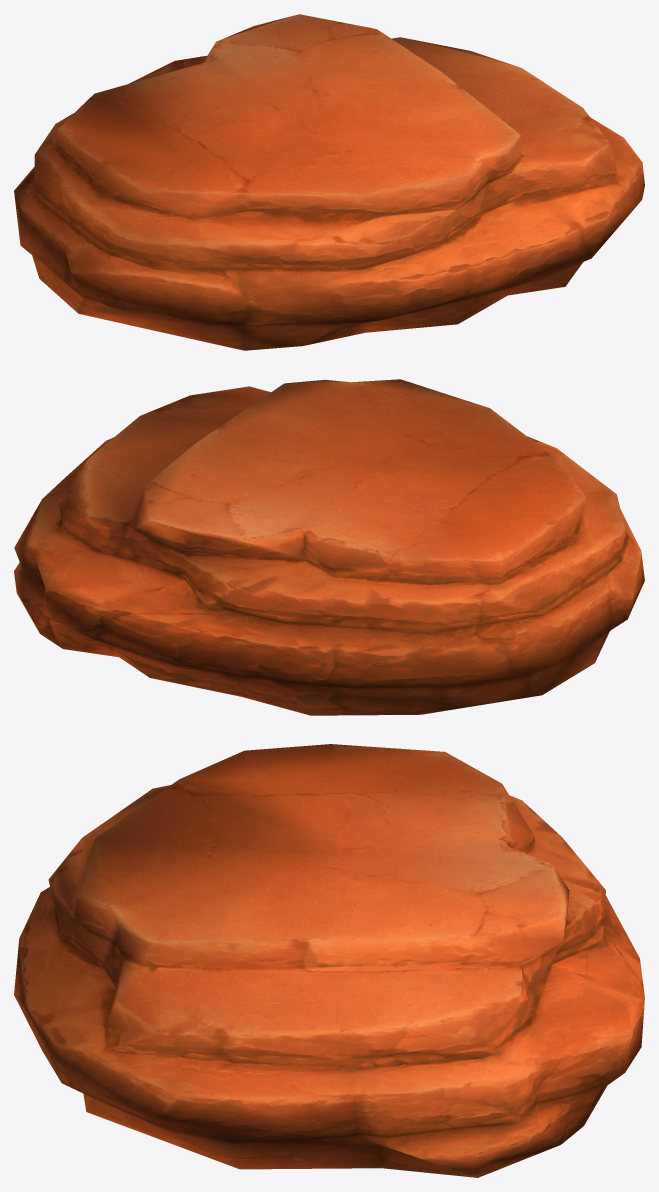
File: Meshy_AI_Three_Tier_Orange_Dis_0512182230_texture.fbx
3 renders of one model, top to bottom at view 1: azimuth 30°, elevation 25°; view 2: azimuth 150°, elevation 25°; view 3: azimuth 270°, elevation 25°, orthographic. The views are drawn at different scales.
Visible parts, largest first — view 1: Mesh_0; view 2: Mesh_0; view 3: Mesh_0.
Boxes of the visible parts, x1,y1,x2,y2 form: Mesh_0: (14, 14, 644, 350); Mesh_0: (14, 379, 644, 715); Mesh_0: (14, 744, 644, 1177).
Bounding box in the file's own units: 191 × 47.8 × 163.
Materials: 1 (1 with a texture image).
